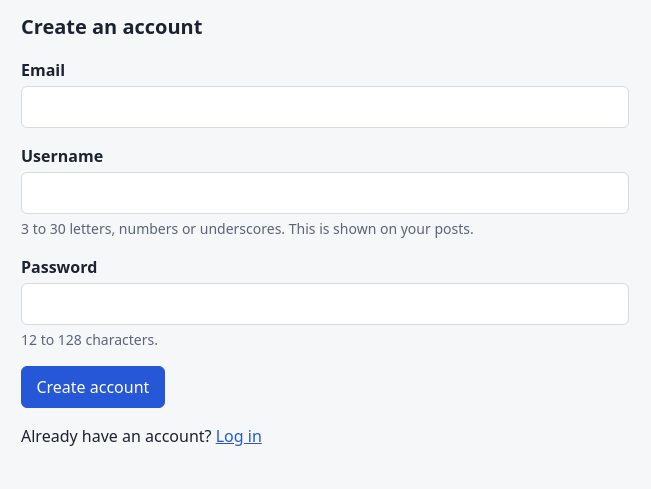
Test: RegisterForm › AT-R4: shows the right message for an email with no @
In the field labelled "Email": (325, 107) [21, 86, 629, 128], type "ada.example.com"
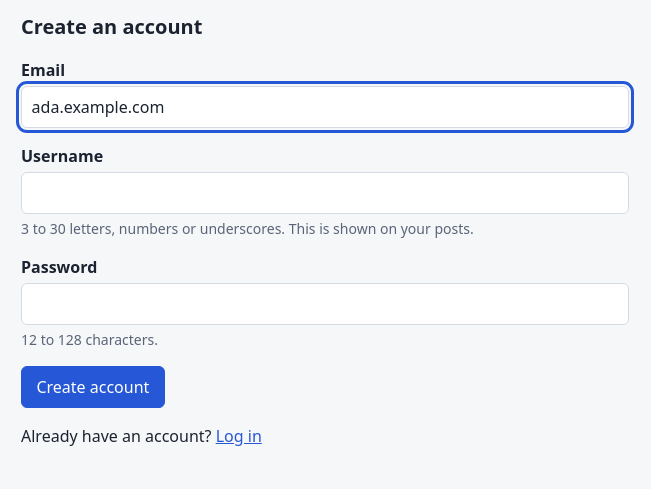
In the field labelled "Username": (325, 193) [21, 172, 629, 214], type "ada_l"
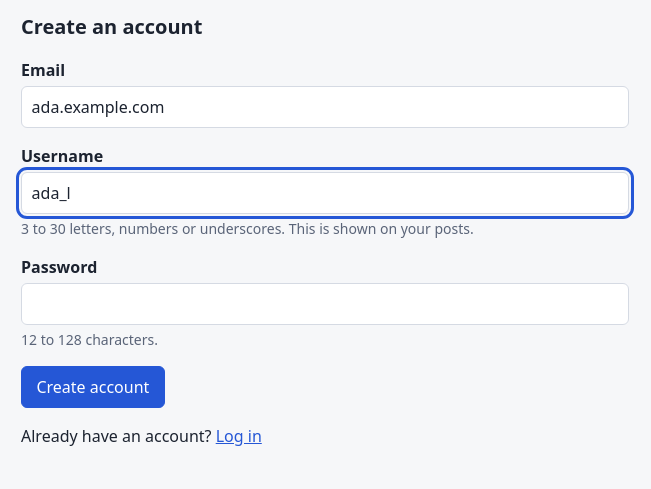
In the password field labelled "Password": (325, 304) [21, 283, 629, 325], type "correct horse battery staple"
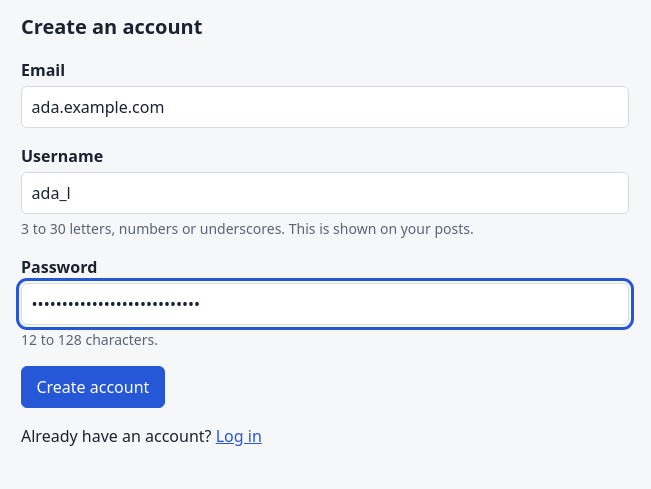
Click the button "Create account": (93, 387) [21, 366, 165, 408]
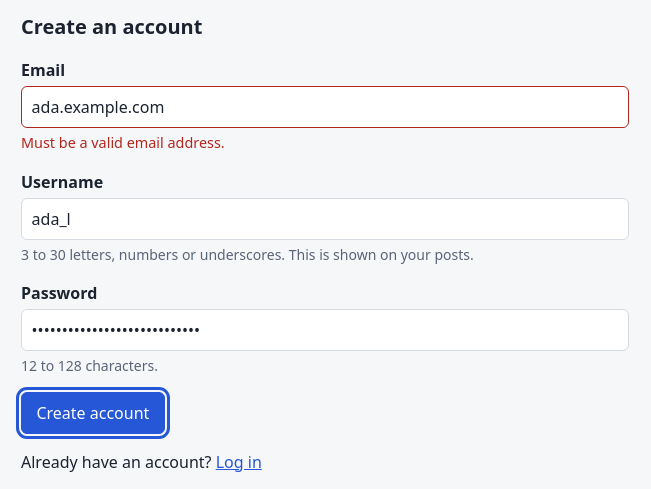
expect the text "Must be a valid email address." is shown: met, box [21, 133, 225, 152]
